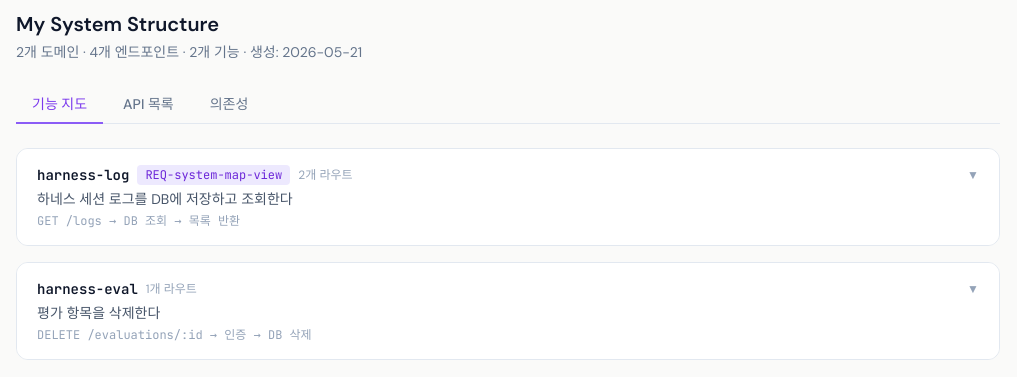
Test: SystemStructurePage — 의존성 탭 공유 코드 테이블 › nodes가 비어 있으면 "(공유 코드 없음)" 메시지가 표시된다
This screenshot has width=1017, height=377.
Click the tab "의존성". click: (229, 105)
box: [194,86,264,124]
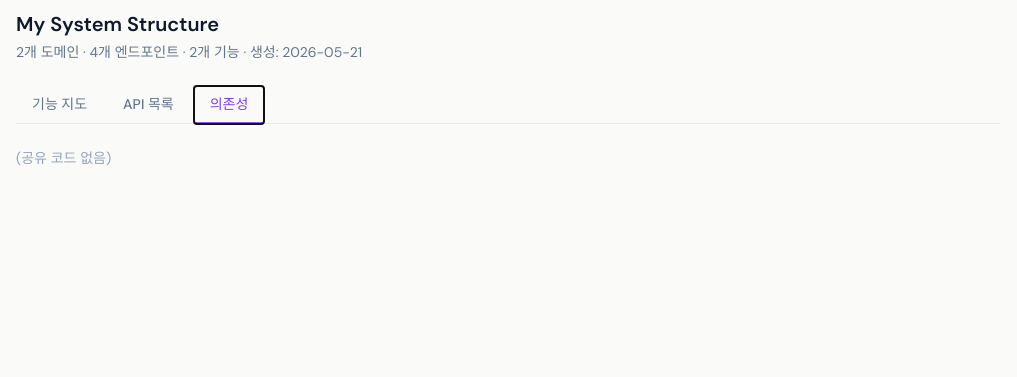
Check: the text "(공유 코드 없음)" is shown, box [16,149,111,167]
